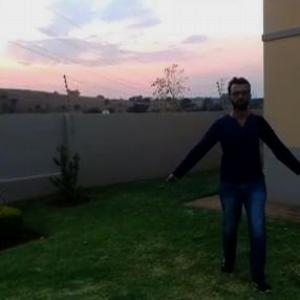land: (164, 74, 299, 277)
